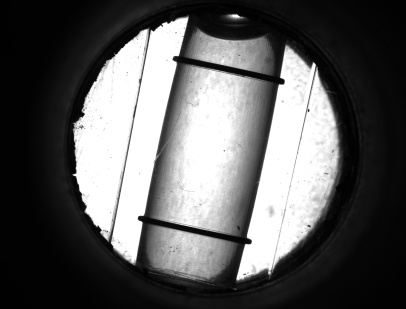line: (188, 55, 268, 88), (151, 216, 233, 245)
